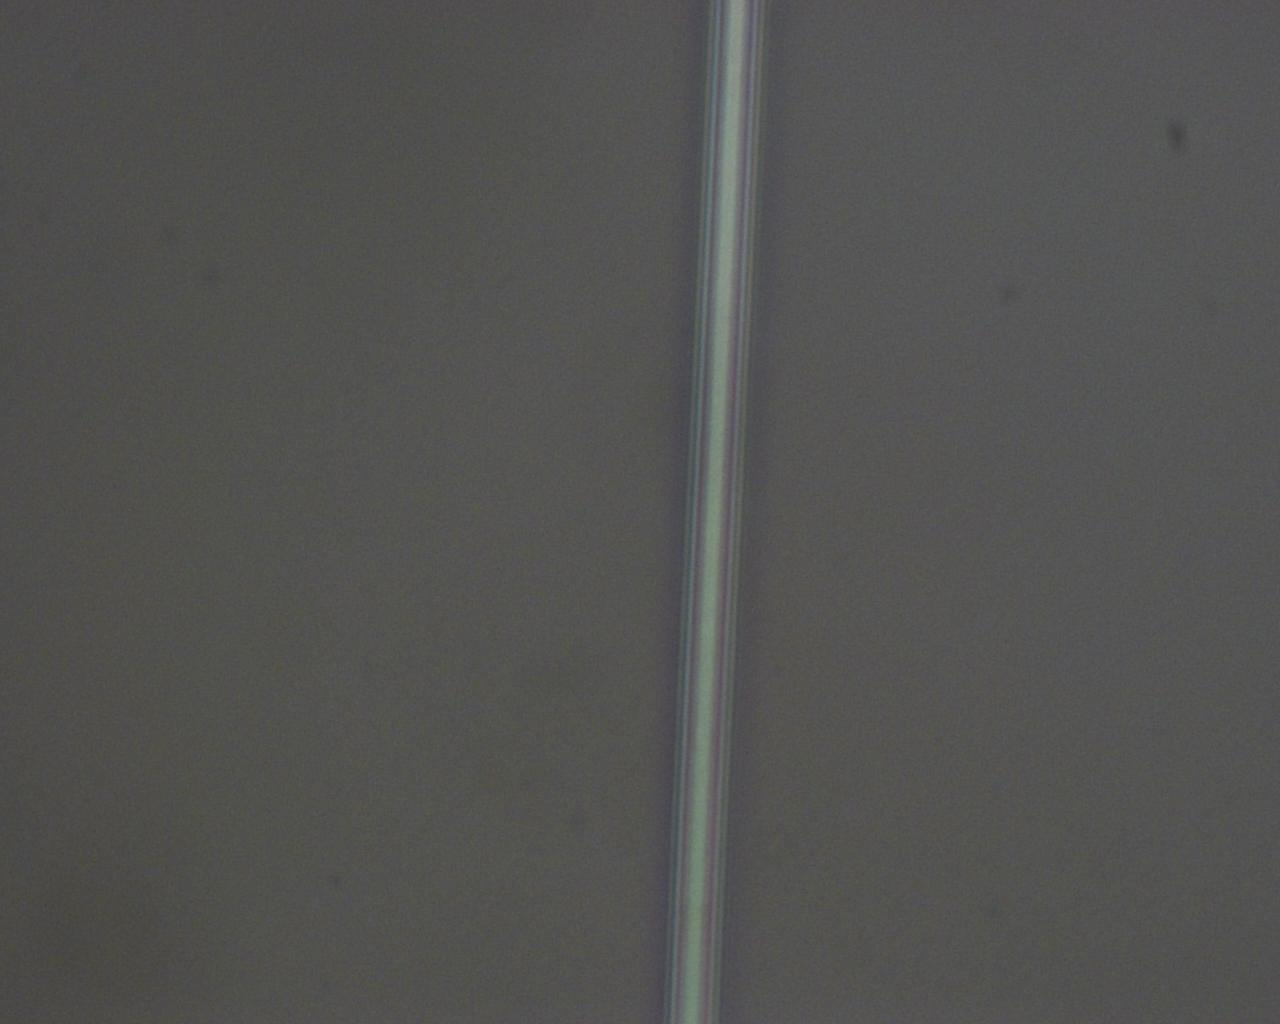fiber: (0, 573, 338, 787), (812, 0, 917, 573), (1158, 573, 1280, 1024)
